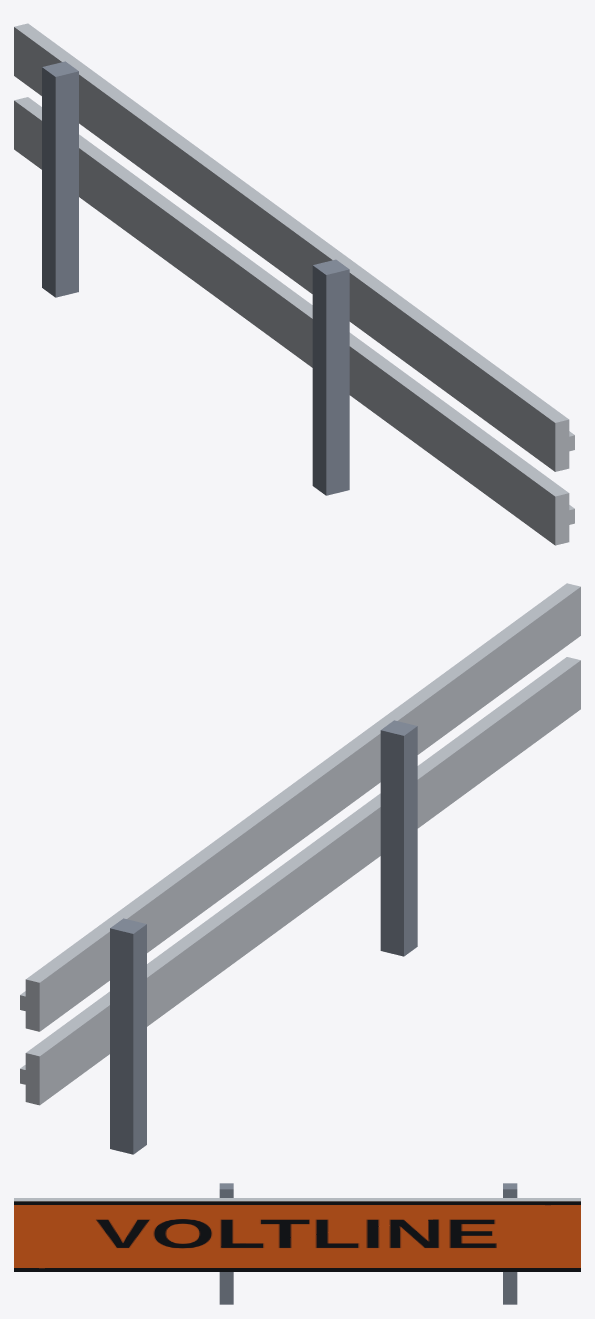
Rendered from armco_ad_voltline.glb.
3 renders of one model, top to bottom at view 1: azimuth 30°, elevation 25°; view 2: azimuth 150°, elevation 25°; view 3: azimuth 270°, elevation 25°, orthographic. The views are drawn at different scales.
Parts seen in each view (by area): view 1: armco; view 2: armco; view 3: armco.
Boxes of the visible parts, left/top/right/bottom form: armco: left=14, top=23, right=574, bottom=545; armco: left=20, top=583, right=580, bottom=1154; armco: left=14, top=1183, right=580, bottom=1304.
Bounding box in the file's own units: 0.25 × 0.9 × 4.
Materials: 3 (1 with a texture image).
